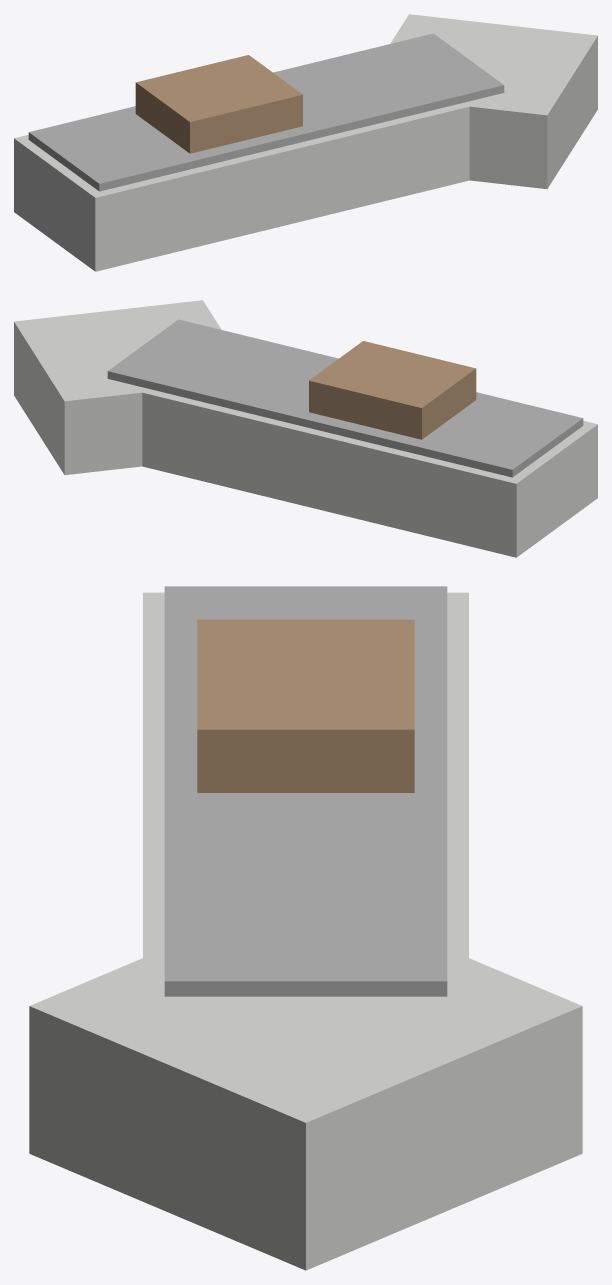
File: lobster_workboat.glb
3 renders of one model, top to bottom at view 1: azimuth 30°, elevation 25°; view 2: azimuth 150°, elevation 25°; view 3: azimuth 270°, elevation 25°, orthographic. The views are drawn at different scales.
Parts seen in each view (by area): view 1: hull, deck, bow, trapstack; view 2: hull, deck, bow, trapstack; view 3: bow, deck, trapstack, hull.
Part boxes in pixels (box(x1,y1,x2,y2)): hull: box(14, 36, 518, 271); deck: box(28, 33, 504, 191); bow: box(390, 14, 597, 189); trapstack: box(135, 55, 302, 153); hull: box(93, 321, 597, 557); deck: box(107, 319, 583, 477); bow: box(14, 300, 221, 475); trapstack: box(309, 341, 476, 439); bow: box(29, 949, 582, 1270); deck: box(164, 586, 447, 996); trapstack: box(197, 619, 414, 792); hull: box(143, 592, 468, 1005).
Size of the model in its own units: 11.55 by 2.3 by 5.09.
